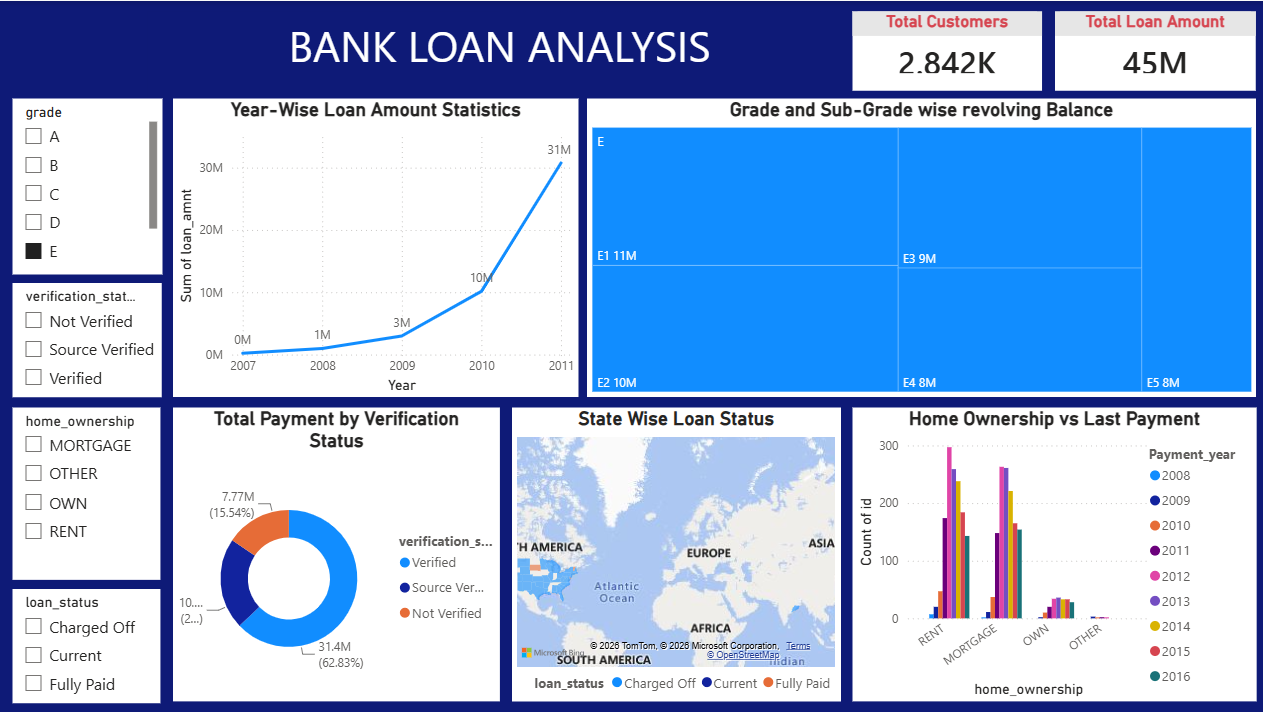

What the dashboard file says about the page in this screenshot:
{"tool":"tableau","page":{"name":"Dashboard 1","canvas":[1000,1000],"units":"permille","ordinal":0},"visuals":[{"type":"image","param":"C:/Users/gaura/OneDrive/Documents/Bank loan analytics/YESBANKLOGO.png","box":[4.8,10,130,121]},{"type":"text","box":[134.8,10,389,121]},{"type":"worksheet","title":"Card 2","mark":"Automatic","box":[523.8,10,152,121]},{"type":"worksheet","title":"Card 1","mark":"Automatic","box":[675.8,10,172.1,121]},{"type":"worksheet","title":"Card 3","mark":"Automatic","box":[847.9,10,147.3,121]},{"type":"text","box":[4.8,131,95.9,78.2]},{"type":"worksheet","title":"KPI 1","mark":"Bar","rows":["loan_amnt"],"cols":["issue_d"],"box":[100.7,131,307.1,398.2]},{"type":"worksheet","title":"KPI 2","mark":"Automatic","rows":["revol_bal"],"cols":["grade","sub_grade"],"box":[407.8,131,587.4,398.2]},{"type":"filter","title":"KPI 1","param":"[federated.0b1aafa0y7bc7010cdsb71eohqot].[yr:issue_d:ok]","box":[4.8,209.2,95.9,226.3]},{"type":"filter","title":"KPI 4","param":"[federated.0b1aafa0y7bc7010cdsb71eohqot].[none:loan_status:nk]","box":[4.8,435.5,95.9,172.3]},{"type":"worksheet","title":"KPI 4","mark":"Automatic","rows":["last_credit_pull_d","loan_status"],"cols":["addr_state"],"box":[100.7,529.3,307.1,460.7]},{"type":"worksheet","title":"KPI 5","mark":"Automatic","box":[407.8,529.3,314.4,460.7]},{"type":"worksheet","title":"KPI 3","mark":"Pie","rows":["Calculation_1383198348972035","Calculation_1383198348972035"],"box":[722.2,529.3,272.9,460.7]},{"type":"filter","title":"KPI 4","param":"[federated.0b1aafa0y7bc7010cdsb71eohqot].[none:addr_state:nk]","box":[4.8,607.8,95.9,97.4]},{"type":"filter","title":"KPI 3","param":"[federated.0b1aafa0y7bc7010cdsb71eohqot].[none:verification_status:nk]","box":[4.8,705.2,95.9,99.8]},{"type":"filter","title":"KPI 5","param":"[federated.0b1aafa0y7bc7010cdsb71eohqot].[none:home_ownership:nk]","box":[4.8,805.1,95.9,91.1]},{"type":"text","box":[4.8,896.2,95.9,36.2]}]}

Visuals, with their boxes on the dashboard's canvas, which has no fixed pixel size, in thousandths of its width and height (x1, y1, x2, y2). These are canvas units, not pixel positions in the 1263x712 screenshot, which may show the page scaled, cropped or inside an application window:
image: [5,10,135,131]
text: [135,10,524,131]
"Card 2" worksheet: [524,10,676,131]
"Card 1" worksheet: [676,10,848,131]
"Card 3" worksheet: [848,10,995,131]
text: [5,131,101,209]
"KPI 1" worksheet (Bar marks): [101,131,408,529]
"KPI 2" worksheet: [408,131,995,529]
"KPI 1" filter: [5,209,101,436]
"KPI 4" filter: [5,436,101,608]
"KPI 4" worksheet: [101,529,408,990]
"KPI 5" worksheet: [408,529,722,990]
"KPI 3" worksheet (Pie marks): [722,529,995,990]
"KPI 4" filter: [5,608,101,705]
"KPI 3" filter: [5,705,101,805]
"KPI 5" filter: [5,805,101,896]
text: [5,896,101,932]
